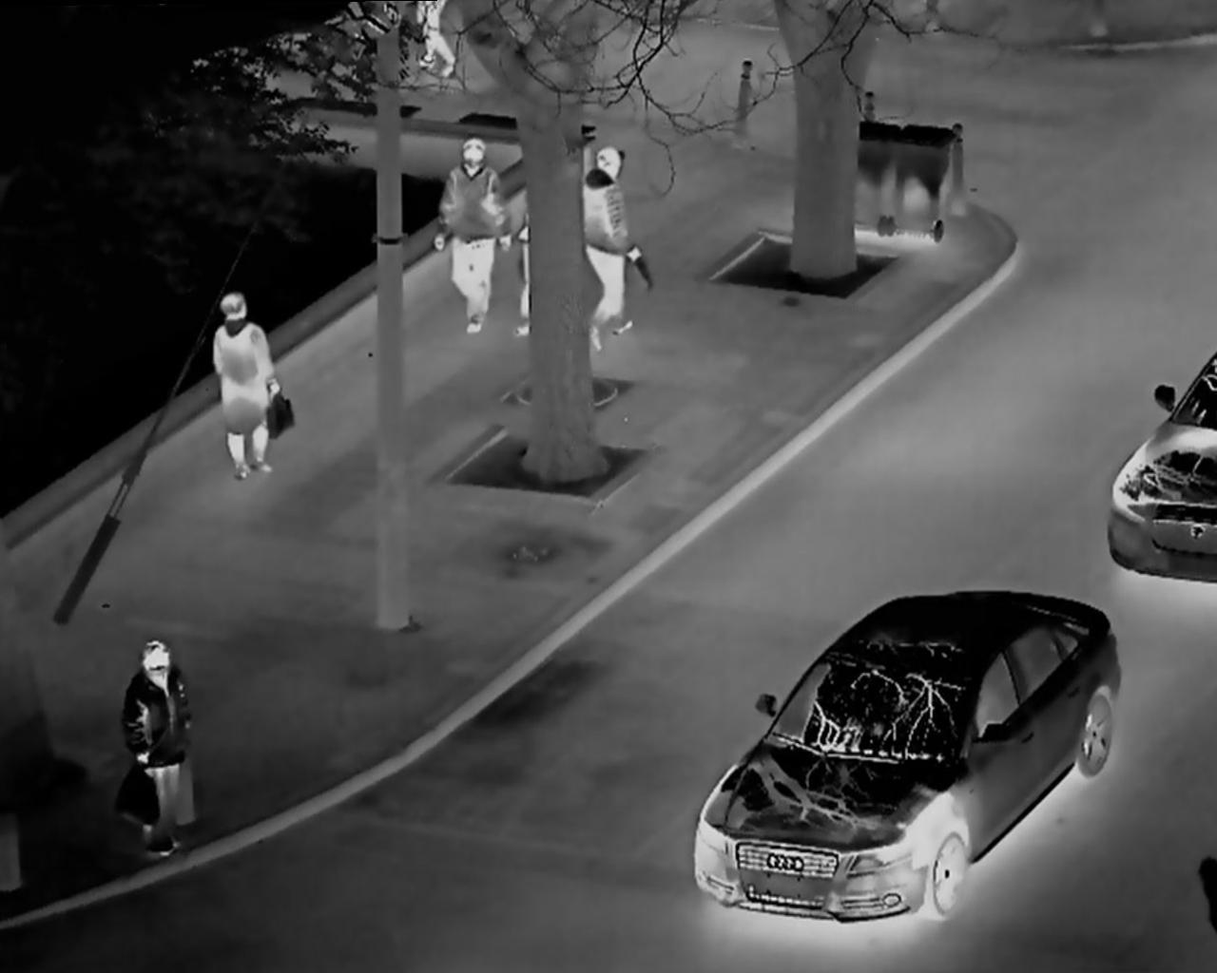person: (118, 632, 215, 870), (579, 139, 655, 364), (205, 285, 285, 493), (432, 128, 508, 327)
